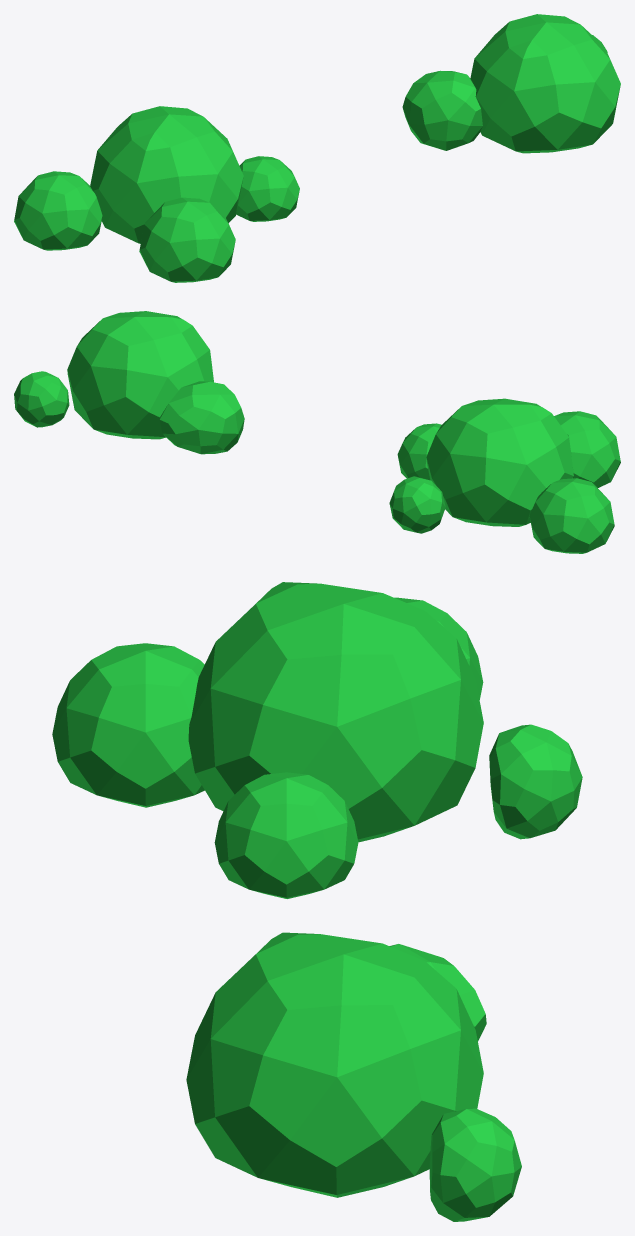
File: lowpoly_bushes.fbx
3 views of the same model, one above another, from view 1: azimuth 30°, elevation 25°; view 2: azimuth 150°, elevation 25°; view 3: azimuth 270°, elevation 25° (orthographic). The views are drawn at different scales.
Parts seen in each view (by area): view 1: Icosphere.005, Icosphere, Icosphere.004, Icosphere.002, Icosphere.007, Icosphere.003; view 2: Icosphere, Icosphere.005, Icosphere.002, Icosphere.007, Icosphere.004, Icosphere.001, Icosphere.006, Icosphere.003; view 3: Icosphere.005, Icosphere, Icosphere.004, Icosphere.003, Icosphere.001, Icosphere.006, Icosphere.007, Icosphere.002.
Part boxes in pixels (x1,y1,x2,y2): Icosphere.005: (470,14,620,153); Icosphere: (90,106,243,243); Icosphere.004: (139,197,235,282); Icosphere.002: (14,171,102,250); Icosphere.007: (402,70,482,150); Icosphere.003: (236,156,299,221); Icosphere: (426,398,573,526); Icosphere.005: (67,311,213,439); Icosphere.002: (529,478,614,553); Icosphere.007: (159,381,244,454); Icosphere.004: (554,411,620,487); Icosphere.001: (389,476,445,533); Icosphere.006: (14,371,69,427); Icosphere.003: (397,423,441,480); Icosphere.005: (186,932,483,1197); Icosphere: (188,582,483,842); Icosphere.004: (52,643,204,807); Icosphere.003: (214,772,358,898); Icosphere.001: (489,724,582,839); Icosphere.006: (429,1108,521,1221); Icosphere.007: (389,944,486,1040); Icosphere.002: (394,597,483,699).
Bounding box in the file's own units: 658 × 118 × 263.
